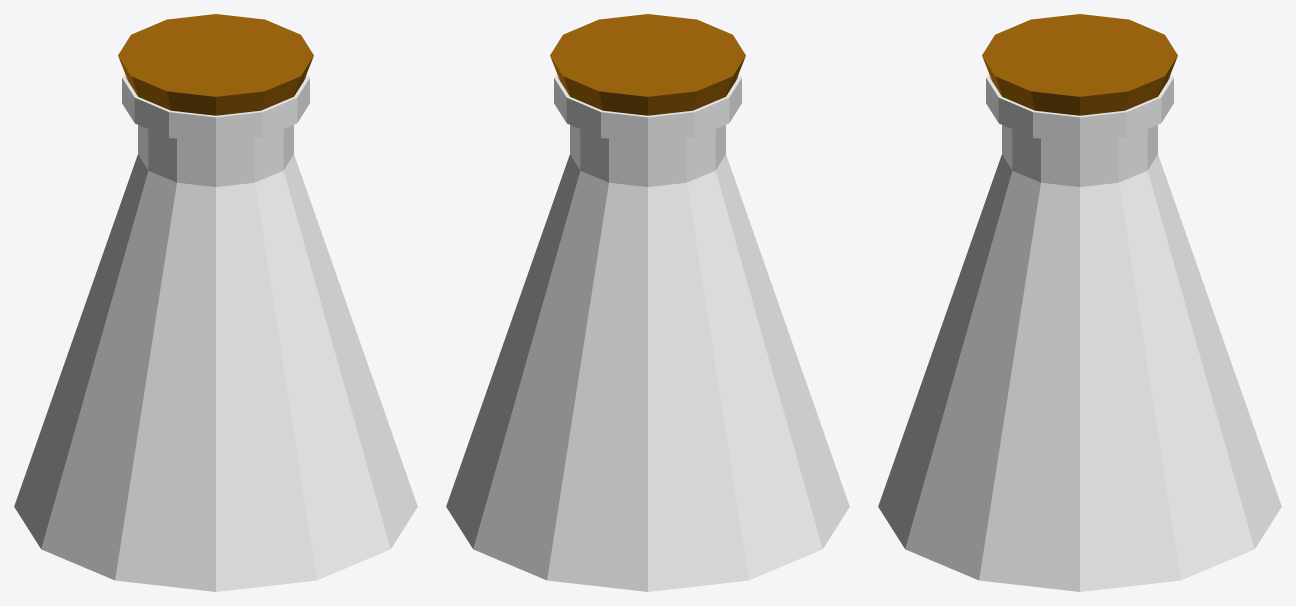
File: Potion_03.fbx
3 renders of one model, left to right at view 1: azimuth 30°, elevation 25°; view 2: azimuth 150°, elevation 25°; view 3: azimuth 270°, elevation 25°, orthographic.
Visible parts, largest first — view 1: Potion_03; view 2: Potion_03; view 3: Potion_03.
Boxes of the visible parts, x1,y1,x2,y2 form: Potion_03: [14, 14, 417, 591]; Potion_03: [446, 14, 849, 591]; Potion_03: [878, 14, 1281, 591].
Bounding box in the file's own units: 10.58 × 13.05 × 10.58.
